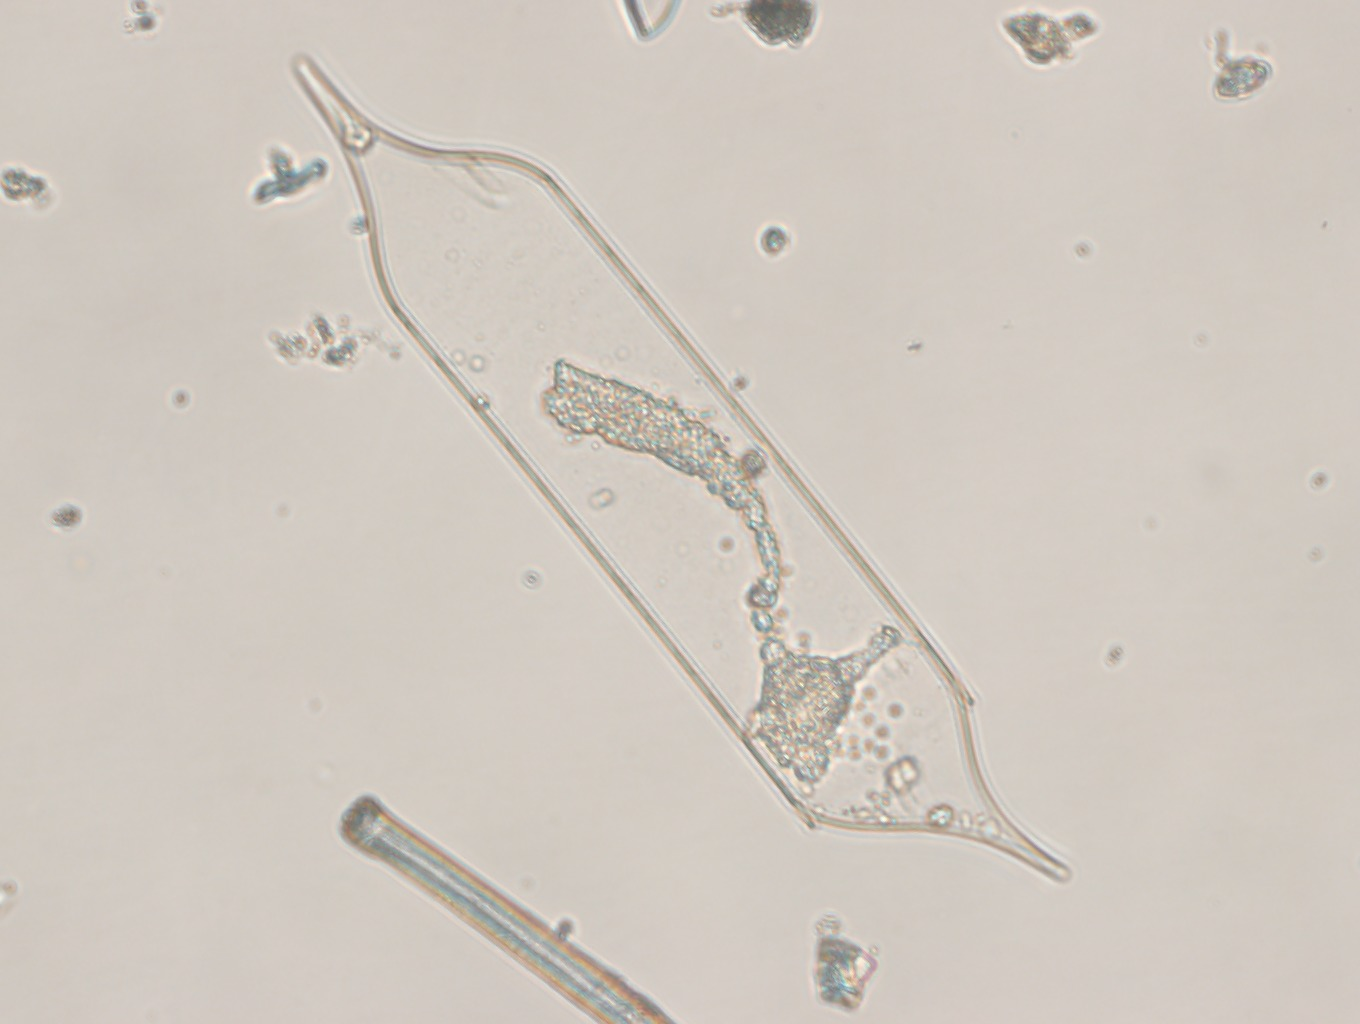rhizosolenia: (277, 49, 1080, 888)
